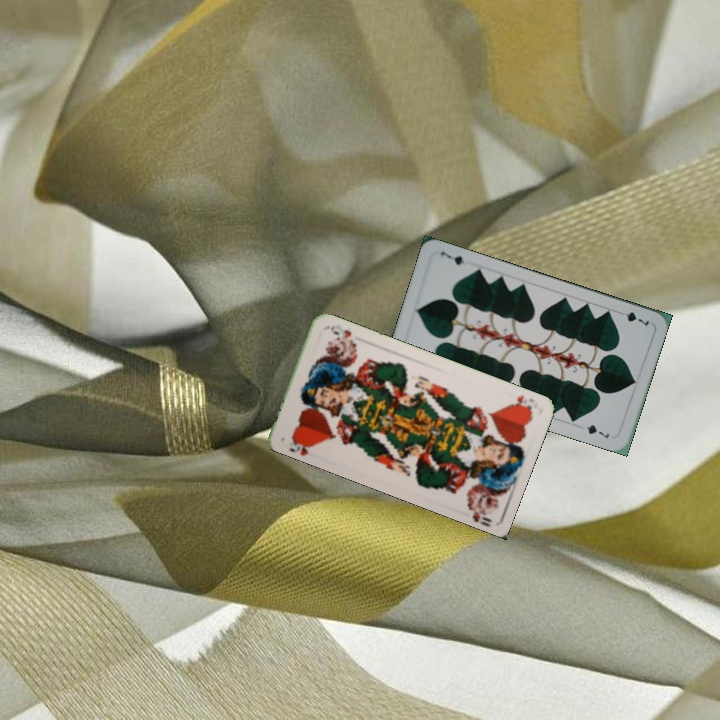G7: (613, 307, 652, 328)
HO: (286, 432, 318, 458), (507, 391, 537, 415)
